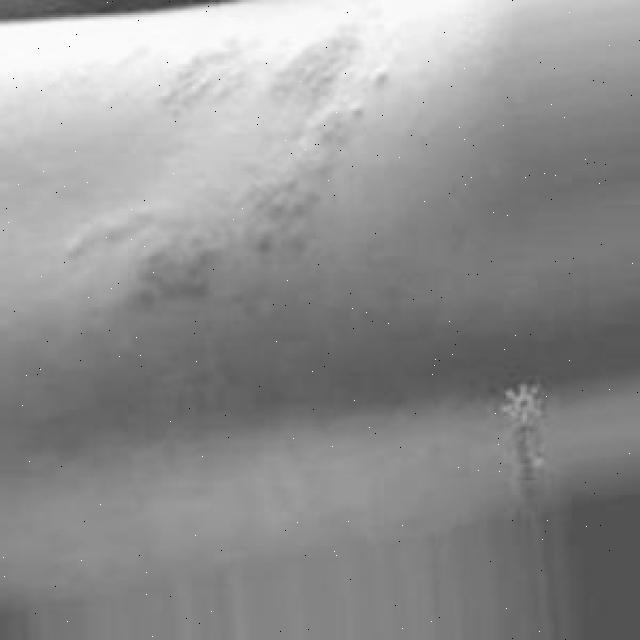Shingles: (59, 36, 394, 304)
